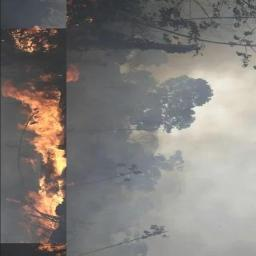Heavy smoke: (68, 3, 255, 255)
Large fire: (1, 28, 67, 255)
